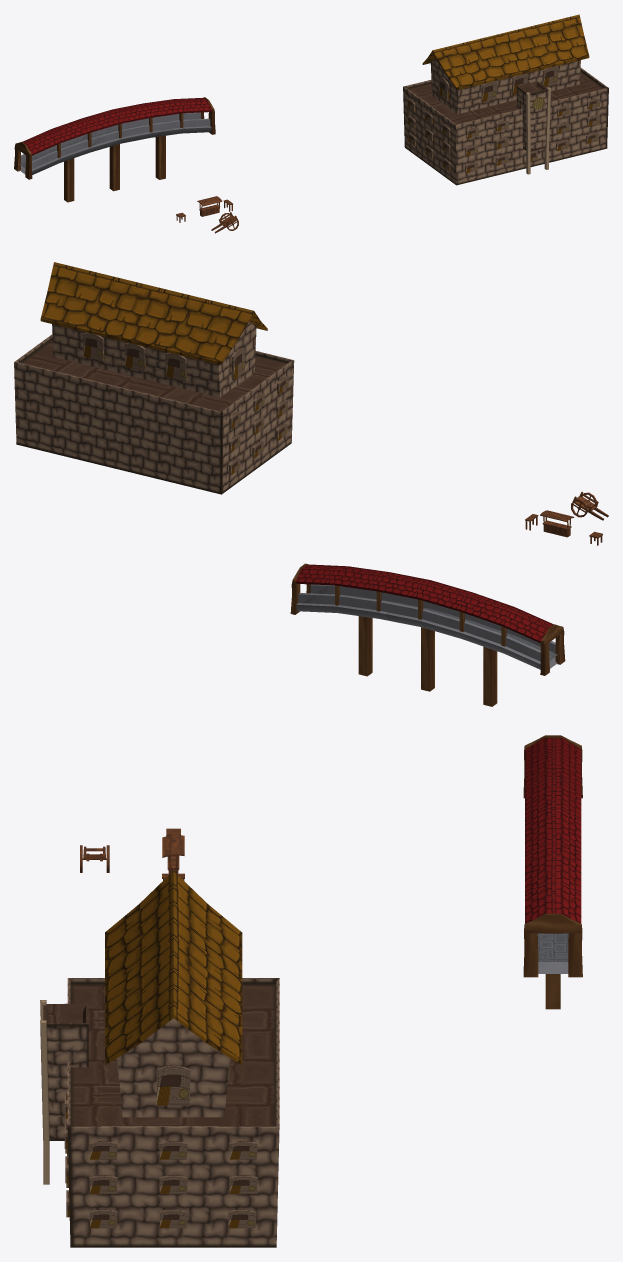
File: Stand01.FBX
The picture shows the model from 3 angles, top to bottom: view 1: azimuth 30°, elevation 25°; view 2: azimuth 150°, elevation 25°; view 3: azimuth 270°, elevation 25°; orthographic projection. The views are drawn at different scales.
Parts seen in each view (by area): view 1: Townhall, Bridge_01, Marketstand, Cart_01; view 2: Townhall, Bridge_01, Marketstand; view 3: Townhall, Bridge_01, Marketstand.
Part boxes in pixels (x1=…): Townhall: x1=403, y1=14, x2=608, y2=185; Bridge_01: x1=14, y1=97, x2=215, y2=202; Marketstand: x1=197, y1=196, x2=222, y2=216; Cart_01: x1=211, y1=212, x2=238, y2=233; Townhall: x1=14, y1=262, x2=294, y2=494; Bridge_01: x1=290, y1=563, x2=565, y2=706; Marketstand: x1=540, y1=510, x2=574, y2=537; Townhall: x1=40, y1=871, x2=279, y2=1247; Bridge_01: x1=523, y1=735, x2=582, y2=1009; Marketstand: x1=162, y1=835, x2=184, y2=873.
Size of the model in its own units: 76.41 by 24.04 by 38.4.
3 materials, 3 textured.
